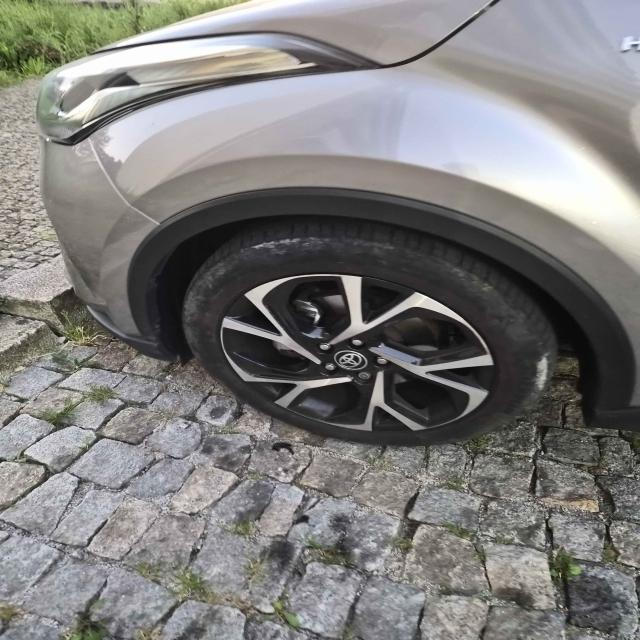jante: (217, 274, 499, 432)
parafuso: (343, 336, 366, 352), (312, 341, 335, 357), (318, 361, 337, 376), (370, 355, 390, 369), (352, 371, 373, 383)
roda: (179, 215, 561, 449)
